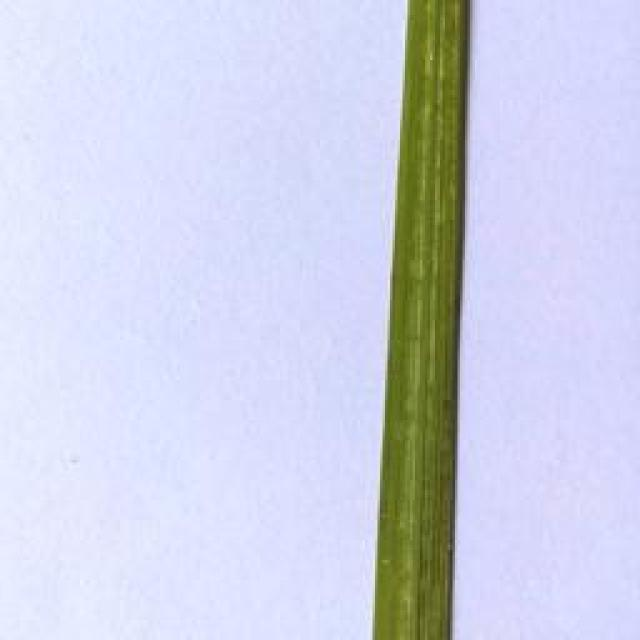Healthy-Plant: (366, 0, 490, 640)
